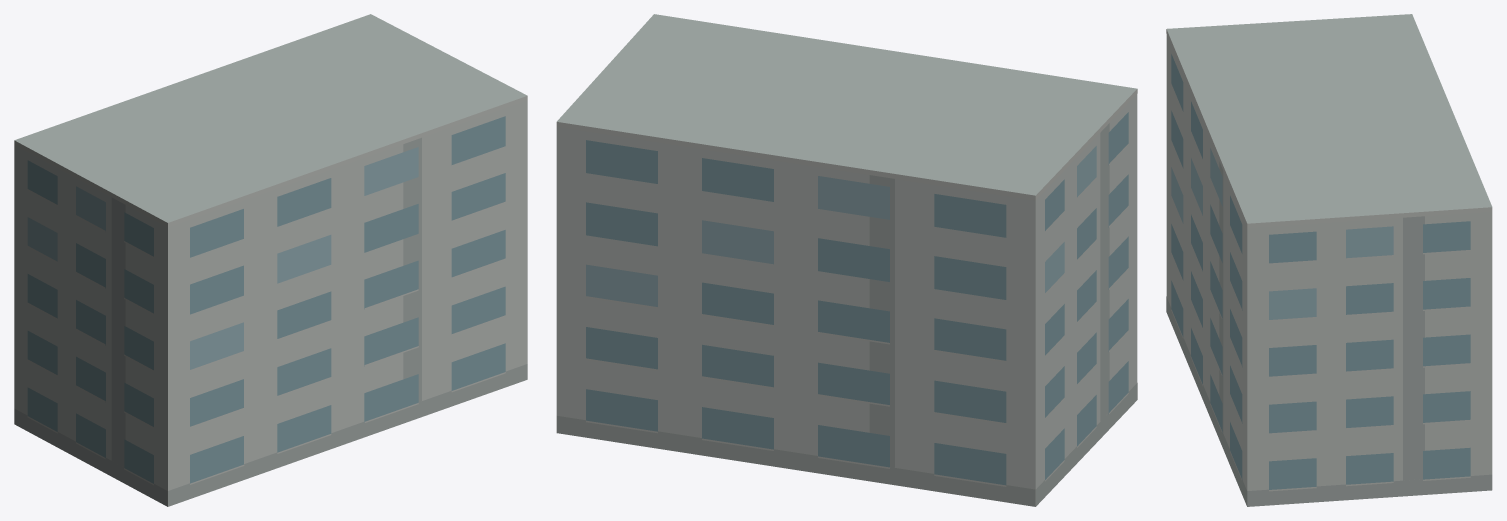
Rendered from survey-upis-32767828.glb.
3 views of the same model, side by side, from view 1: azimuth 30°, elevation 25°; view 2: azimuth 150°, elevation 25°; view 3: azimuth 270°, elevation 25° (orthographic). The views are drawn at different scales.
Visible parts, largest first — view 1: survey-upis-32767828.tmp; view 2: survey-upis-32767828.tmp; view 3: survey-upis-32767828.tmp.
Boxes of the visible parts, x1=… form: survey-upis-32767828.tmp: x1=14, y1=14, x2=527, y2=506; survey-upis-32767828.tmp: x1=556, y1=14, x2=1137, y2=506; survey-upis-32767828.tmp: x1=1166, y1=14, x2=1492, y2=506.
Bounding box in the file's own units: 24.22 × 15.25 × 15.92.
